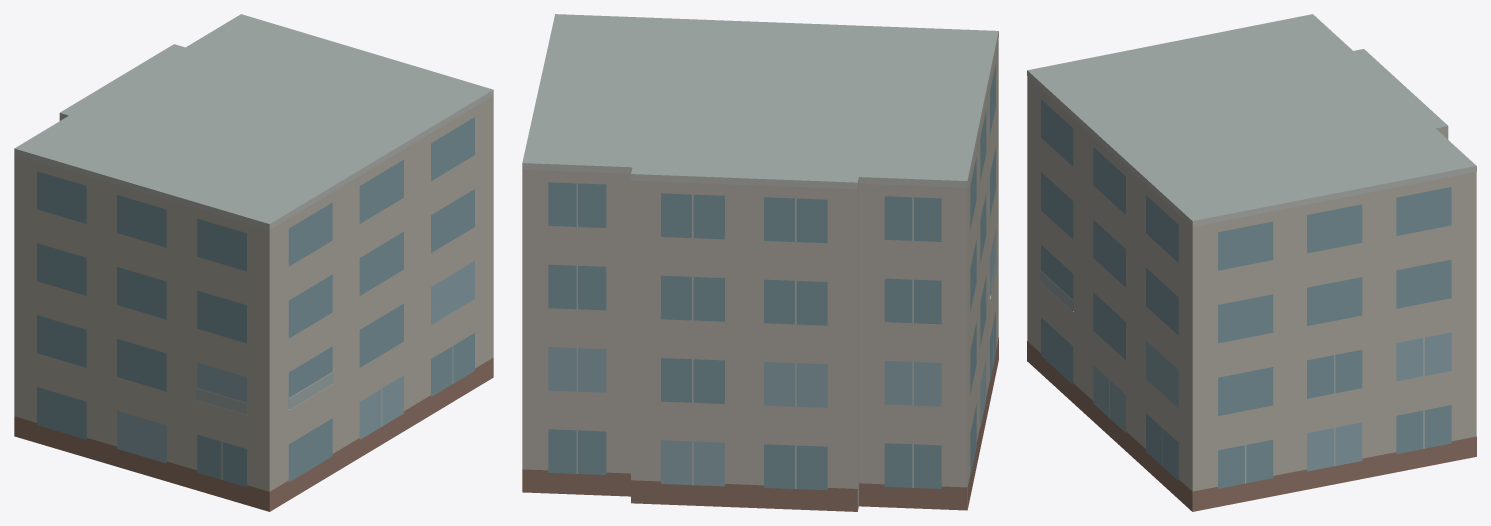
The model's file is survey-upis-32741318.glb.
3 views of the same model, side by side, from view 1: azimuth 30°, elevation 25°; view 2: azimuth 150°, elevation 25°; view 3: azimuth 270°, elevation 25° (orthographic). The views are drawn at different scales.
Visible parts, largest first — view 1: survey-upis-32741318.tmp; view 2: survey-upis-32741318.tmp; view 3: survey-upis-32741318.tmp.
Boxes of the visible parts, x1,y1,x2,y2 form: survey-upis-32741318.tmp: (14,14,493,511); survey-upis-32741318.tmp: (522,14,998,511); survey-upis-32741318.tmp: (1027,14,1476,511).
Bounding box in the file's own units: 18.64 × 12.2 × 17.1.
